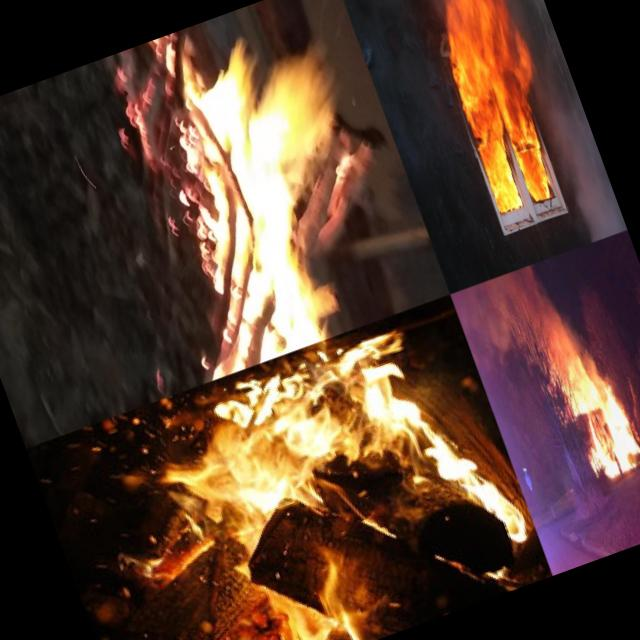fire: (135, 305, 545, 640), (163, 0, 450, 356), (409, 0, 574, 221), (559, 354, 640, 478)
smoke: (530, 56, 628, 242), (363, 31, 470, 179), (524, 258, 593, 370)
